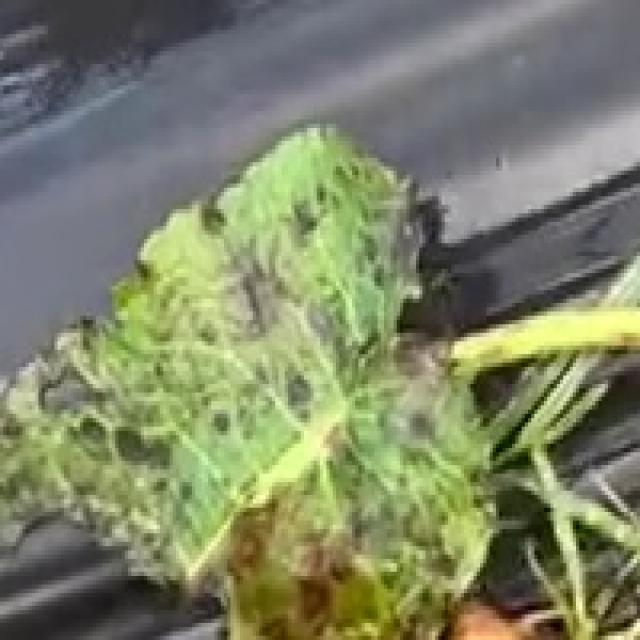organic waste: (3, 89, 640, 640)
